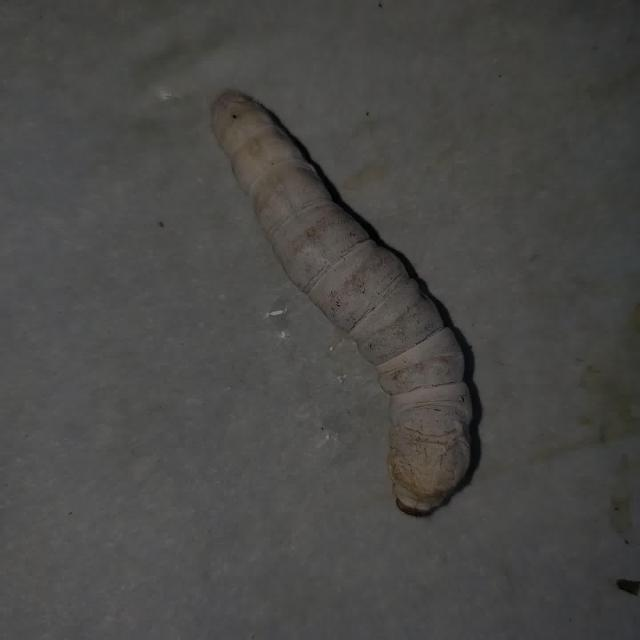Grasserie: (199, 71, 492, 525)
